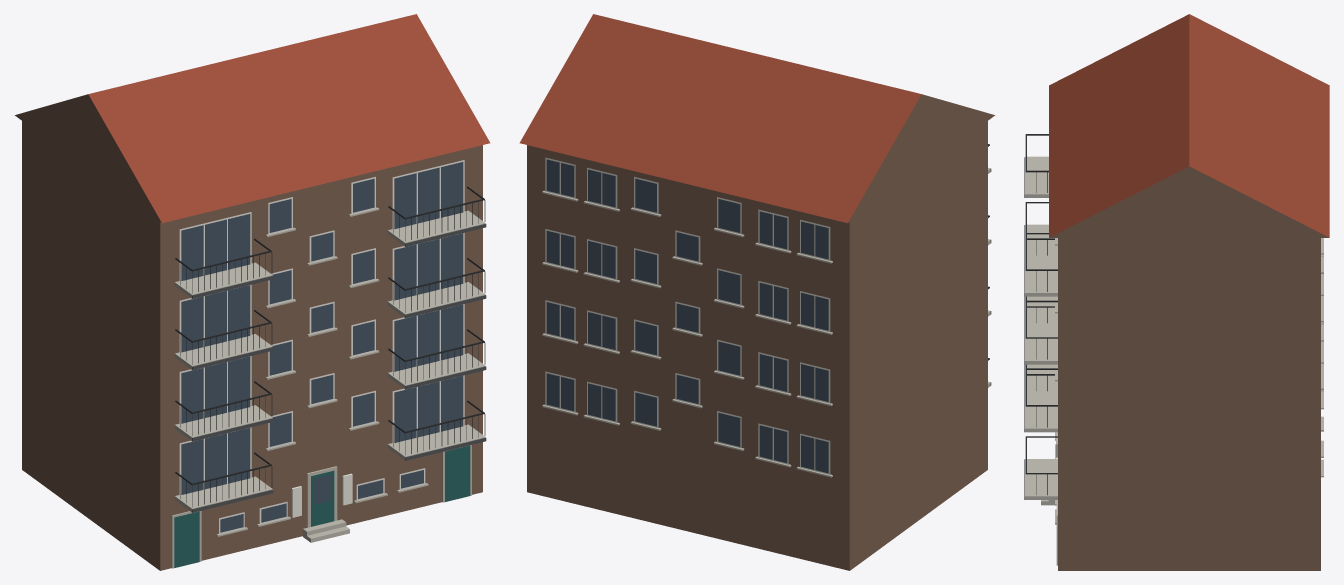
Rendered from nw-portiek-wide-core-slotermeerlaan__brick-red__5__gable__long__solid.glb.
3 renders of one model, left to right at view 1: azimuth 30°, elevation 25°; view 2: azimuth 150°, elevation 25°; view 3: azimuth 270°, elevation 25°, orthographic. The views are drawn at different scales.
Visible parts, largest first — view 1: nw-portiek-wide-core-slotermeerlaan__brick-red__5__gable__lo; view 2: nw-portiek-wide-core-slotermeerlaan__brick-red__5__gable__lo; view 3: nw-portiek-wide-core-slotermeerlaan__brick-red__5__gable__lo.
Boxes of the visible parts, left/top/right/bottom form: nw-portiek-wide-core-slotermeerlaan__brick-red__5__gable__lo: left=15, top=14, right=490, bottom=570; nw-portiek-wide-core-slotermeerlaan__brick-red__5__gable__lo: left=519, top=14, right=994, bottom=570; nw-portiek-wide-core-slotermeerlaan__brick-red__5__gable__lo: left=1024, top=14, right=1329, bottom=570.
Bounding box in the file's own units: 14.24 × 17.68 × 12.06.
